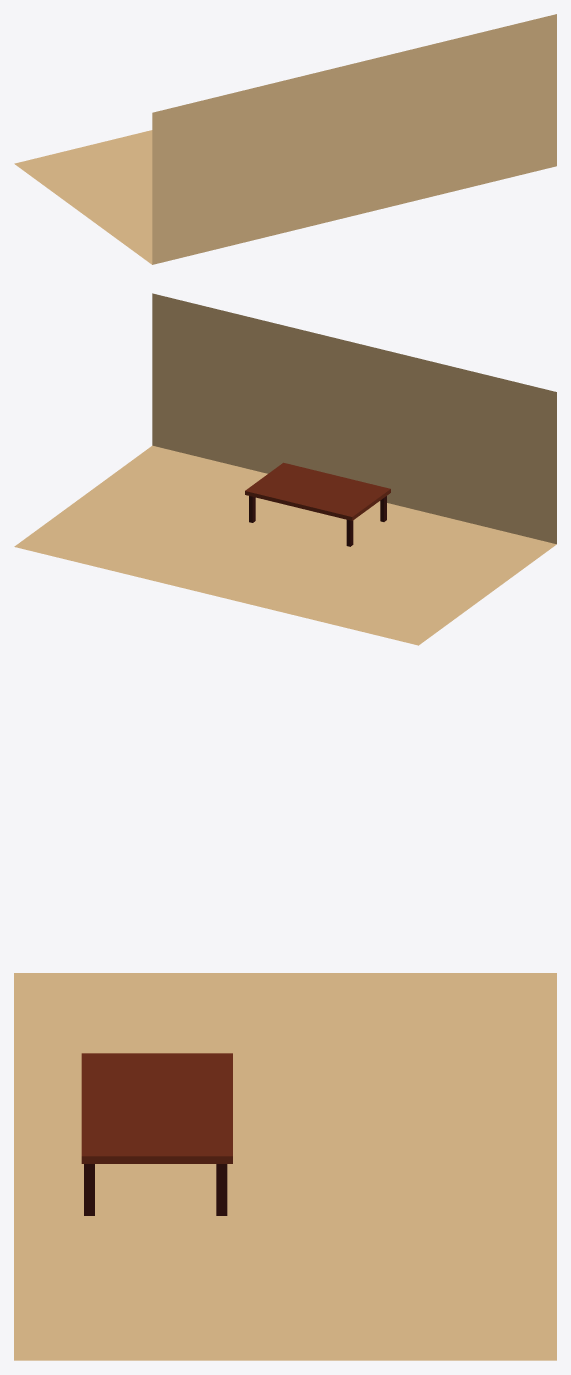
The model's file is room.glb.
3 views of the same model, one above another, from view 1: azimuth 30°, elevation 25°; view 2: azimuth 150°, elevation 25°; view 3: azimuth 270°, elevation 25° (orthographic). The views are drawn at different scales.
Visible parts, largest first — view 1: bg; view 2: bg, table; view 3: bg, table.
Part boxes in pixels (<box>): bg: <box>14,14,556,264</box>; bg: <box>14,293,556,645</box>; table: <box>245,462,390,546</box>; bg: <box>14,973,556,1360</box>; table: <box>81,1053,232,1215</box>.
Bounding box in the file's own units: 49.18 × 17.68 × 29.12.
